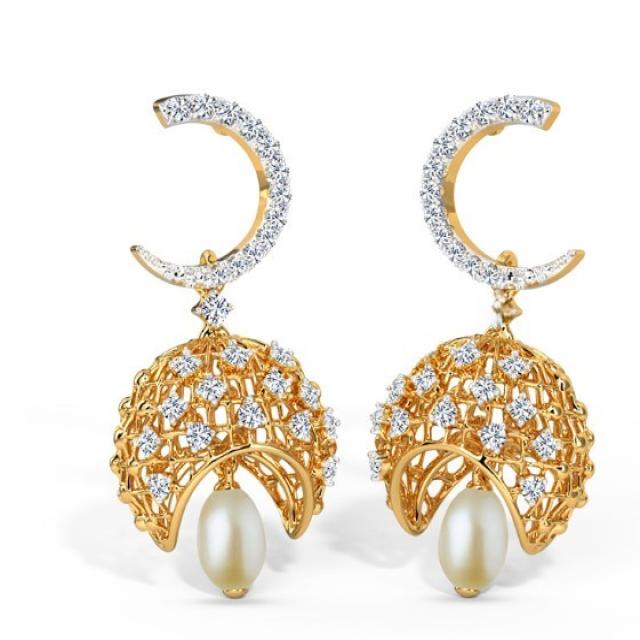missing gem: (136, 246, 196, 285), (509, 257, 576, 287)
